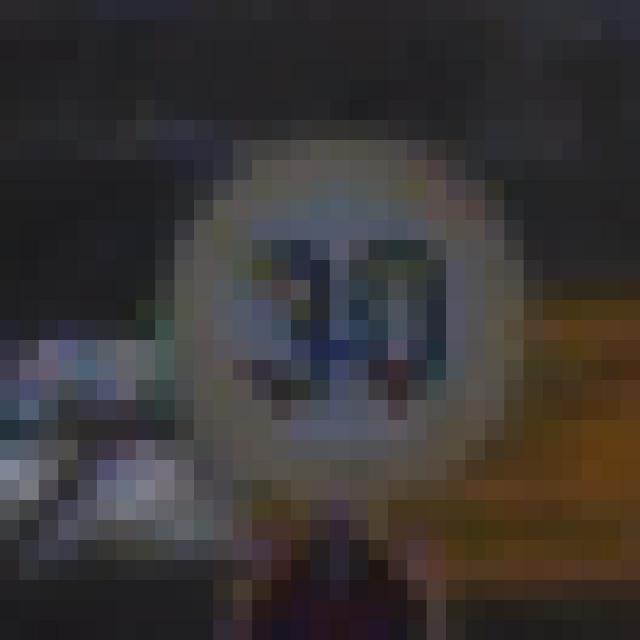Speed Limit -30-: (106, 90, 534, 530)
